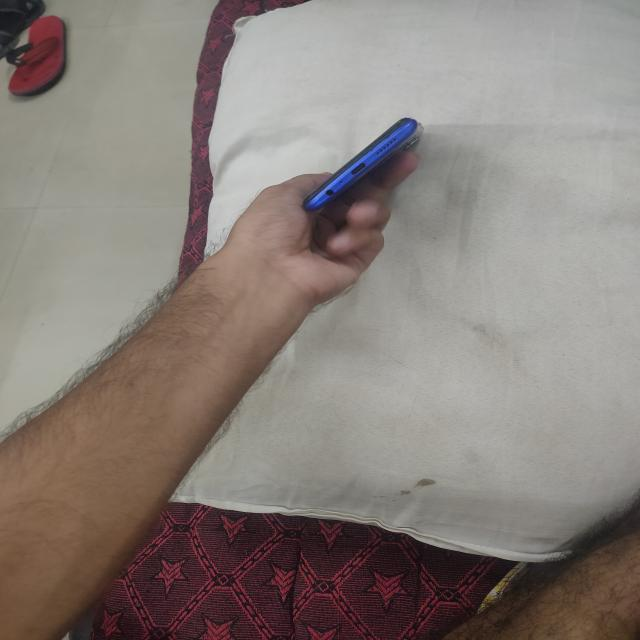Phone: (297, 113, 424, 222)
